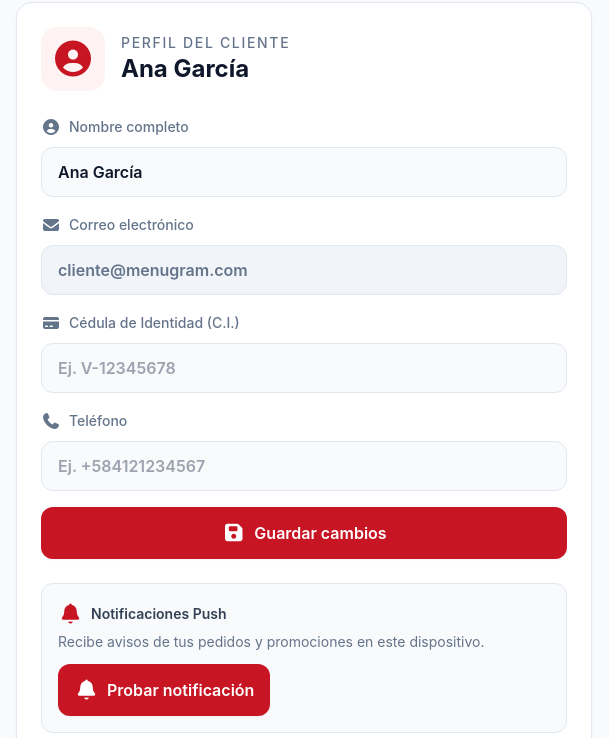
Test: ProfilePage › dispara la notificación local de prueba al pulsar el botón
Click the button "Probar notificación": (164, 690) [58, 664, 270, 716]
(page scrolled)
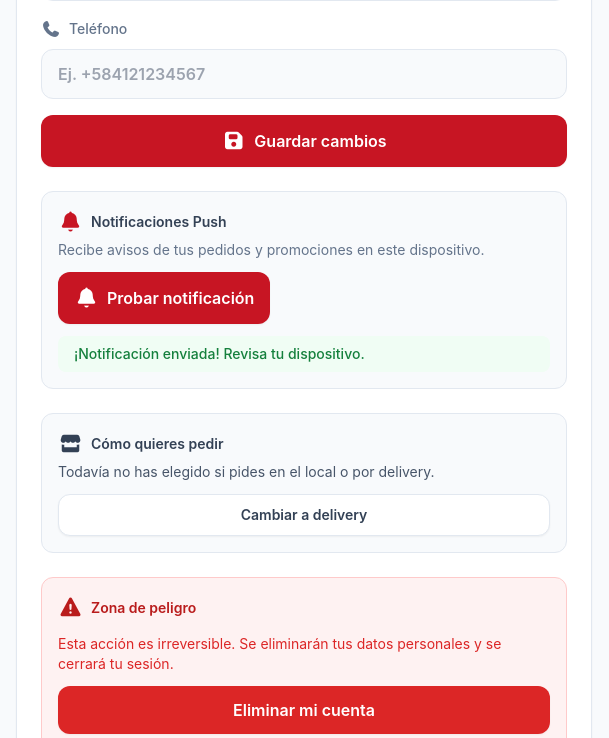
expect the message shows "Notificación enviada": met, box [74, 345, 365, 362]
